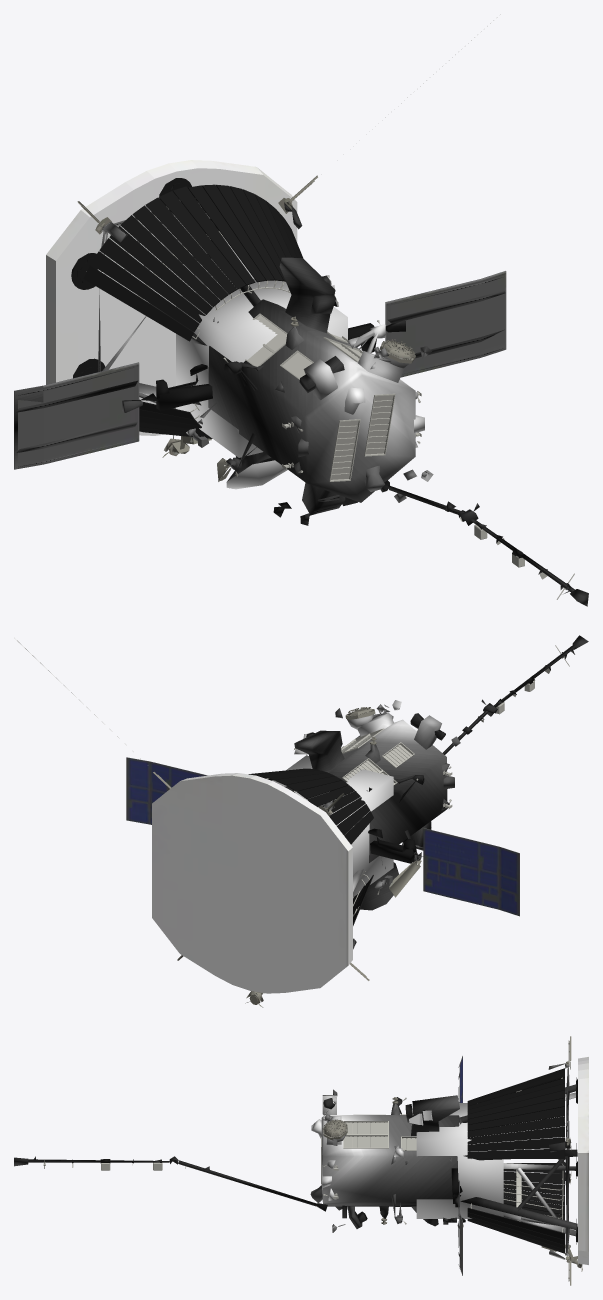
File: parker.glb
The picture shows the model from 3 angles, top to bottom: view 1: azimuth 30°, elevation 25°; view 2: azimuth 150°, elevation 25°; view 3: azimuth 270°, elevation 25°; orthographic projection. The views are drawn at different scales.
Parts seen in each view (by area): view 1: Instruments, BUS, CoolingSystem, _root, CoolingSystem_frame, solarArray_arms, HGA; view 2: Instruments, BUS, CoolingSystem, _root, CoolingSystem_frame, solarArray_arms; view 3: BUS, CoolingSystem, _root, Instruments, CoolingSystem_frame.
Part boxes in pixels (x1,y1,x2,y2): Instruments: [14, 160, 506, 481]; BUS: [14, 196, 588, 606]; CoolingSystem: [71, 178, 302, 438]; _root: [176, 278, 347, 457]; CoolingSystem_frame: [101, 14, 500, 481]; solarArray_arms: [140, 323, 376, 411]; HGA: [226, 460, 287, 489]; Instruments: [126, 707, 519, 1007]; BUS: [284, 635, 588, 949]; CoolingSystem: [248, 768, 373, 925]; _root: [272, 755, 393, 897]; CoolingSystem_frame: [14, 638, 414, 916]; solarArray_arms: [368, 828, 422, 863]; BUS: [14, 1062, 577, 1269]; CoolingSystem: [467, 1068, 577, 1253]; _root: [416, 1103, 503, 1218]; Instruments: [322, 1036, 588, 1285]; CoolingSystem_frame: [321, 1077, 565, 1232].
Size of the model in its own units: 5.13 by 3.27 by 6.6.
Materials: 6 (2 with a texture image).
